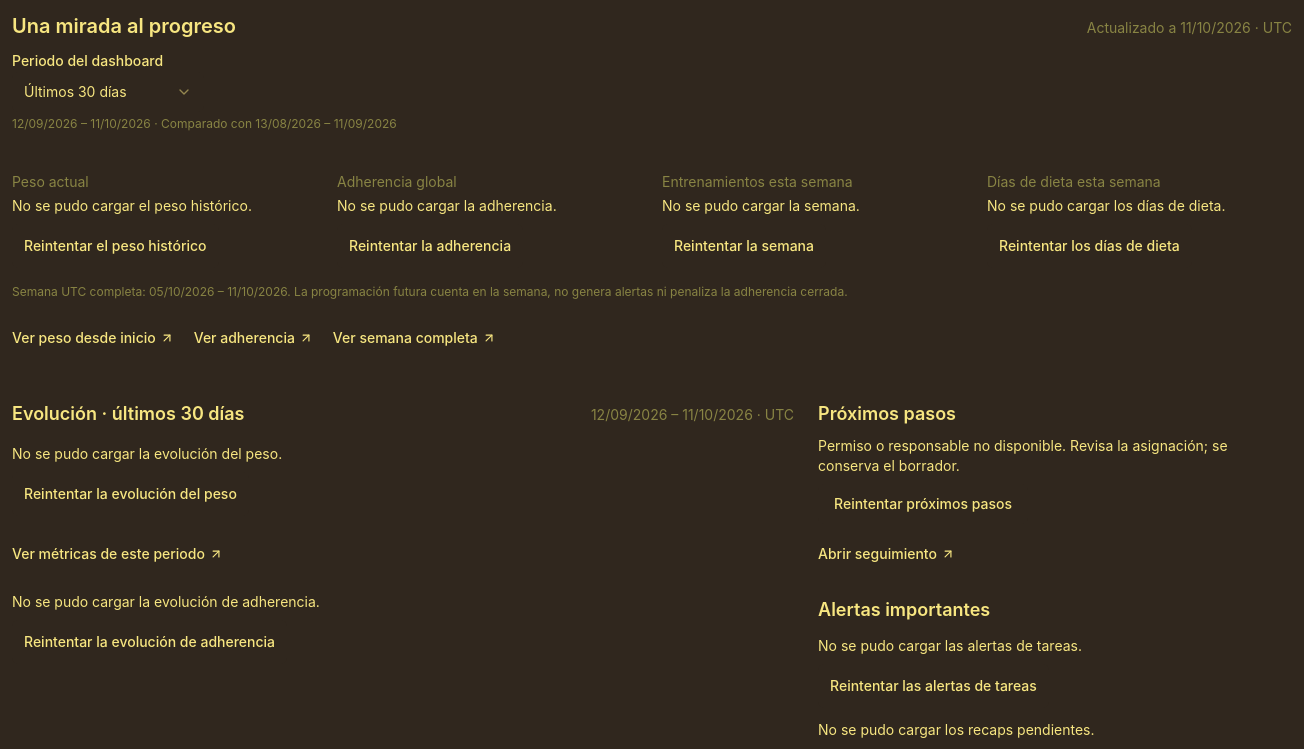
Test: Dashboard: presentación canónica › error con recuperación explícita, sin ocultar datos ausentes
Expected: the text "No se pudo cargar el peso histórico." is shown, [12,197,252,214]
Click the button "Reintentar el peso histórico": (115, 246) [12,224,218,268]
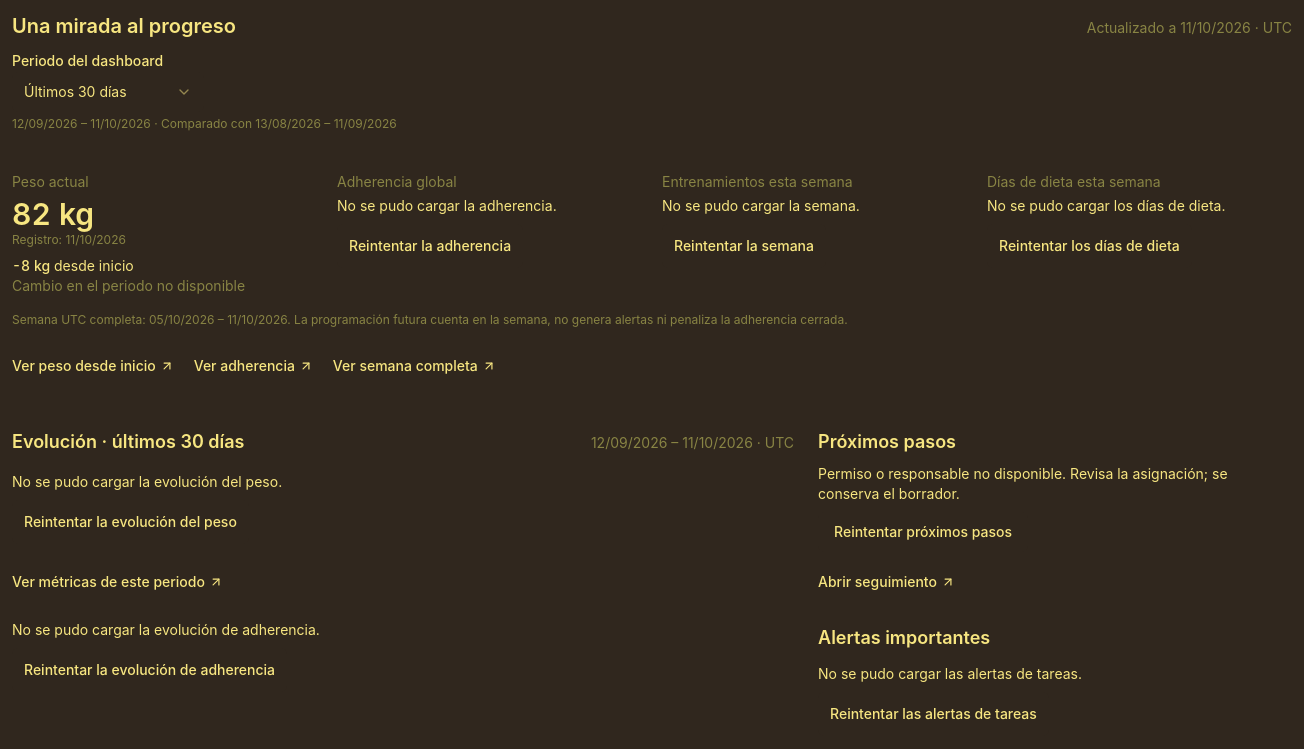
Expected: the text "82 kg" is shown, [12,196,94,232]
